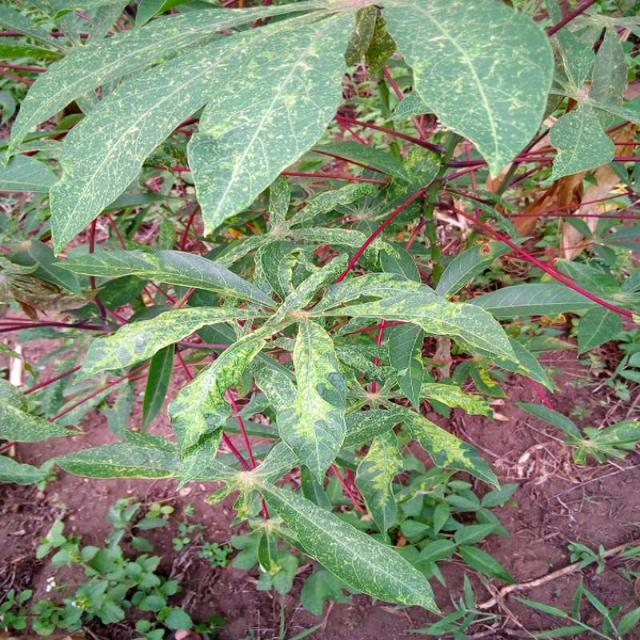cassava leaf: (46, 3, 360, 255), (378, 0, 554, 178), (255, 478, 440, 615)
